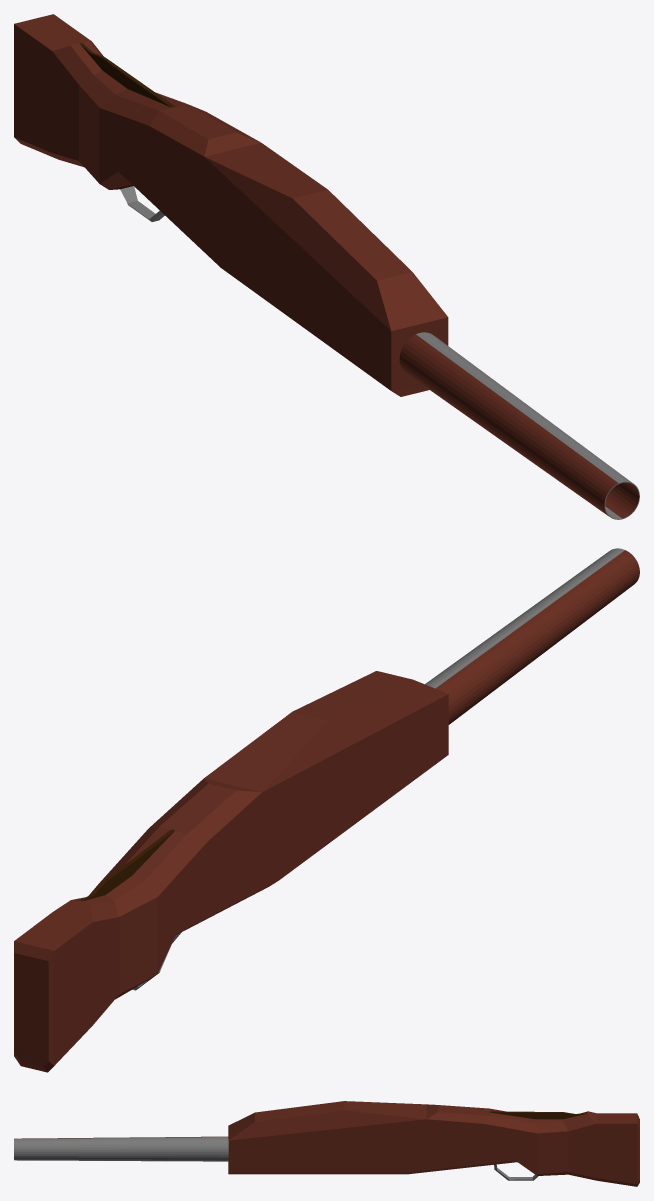
File: space_rifle.glb
3 renders of one model, top to bottom at view 1: azimuth 30°, elevation 25°; view 2: azimuth 150°, elevation 25°; view 3: azimuth 270°, elevation 25°, orthographic. The views are drawn at different scales.
Visible parts, largest first — view 1: Cylinder; view 2: Cylinder; view 3: Cylinder.
Boxes of the visible parts, box(x1,y1,x2,y2) form: Cylinder: box(14, 14, 639, 519); Cylinder: box(14, 548, 639, 1072); Cylinder: box(14, 1101, 639, 1186).
Bounding box in the file's own units: 0.5086 × 1.2 × 8.68.
